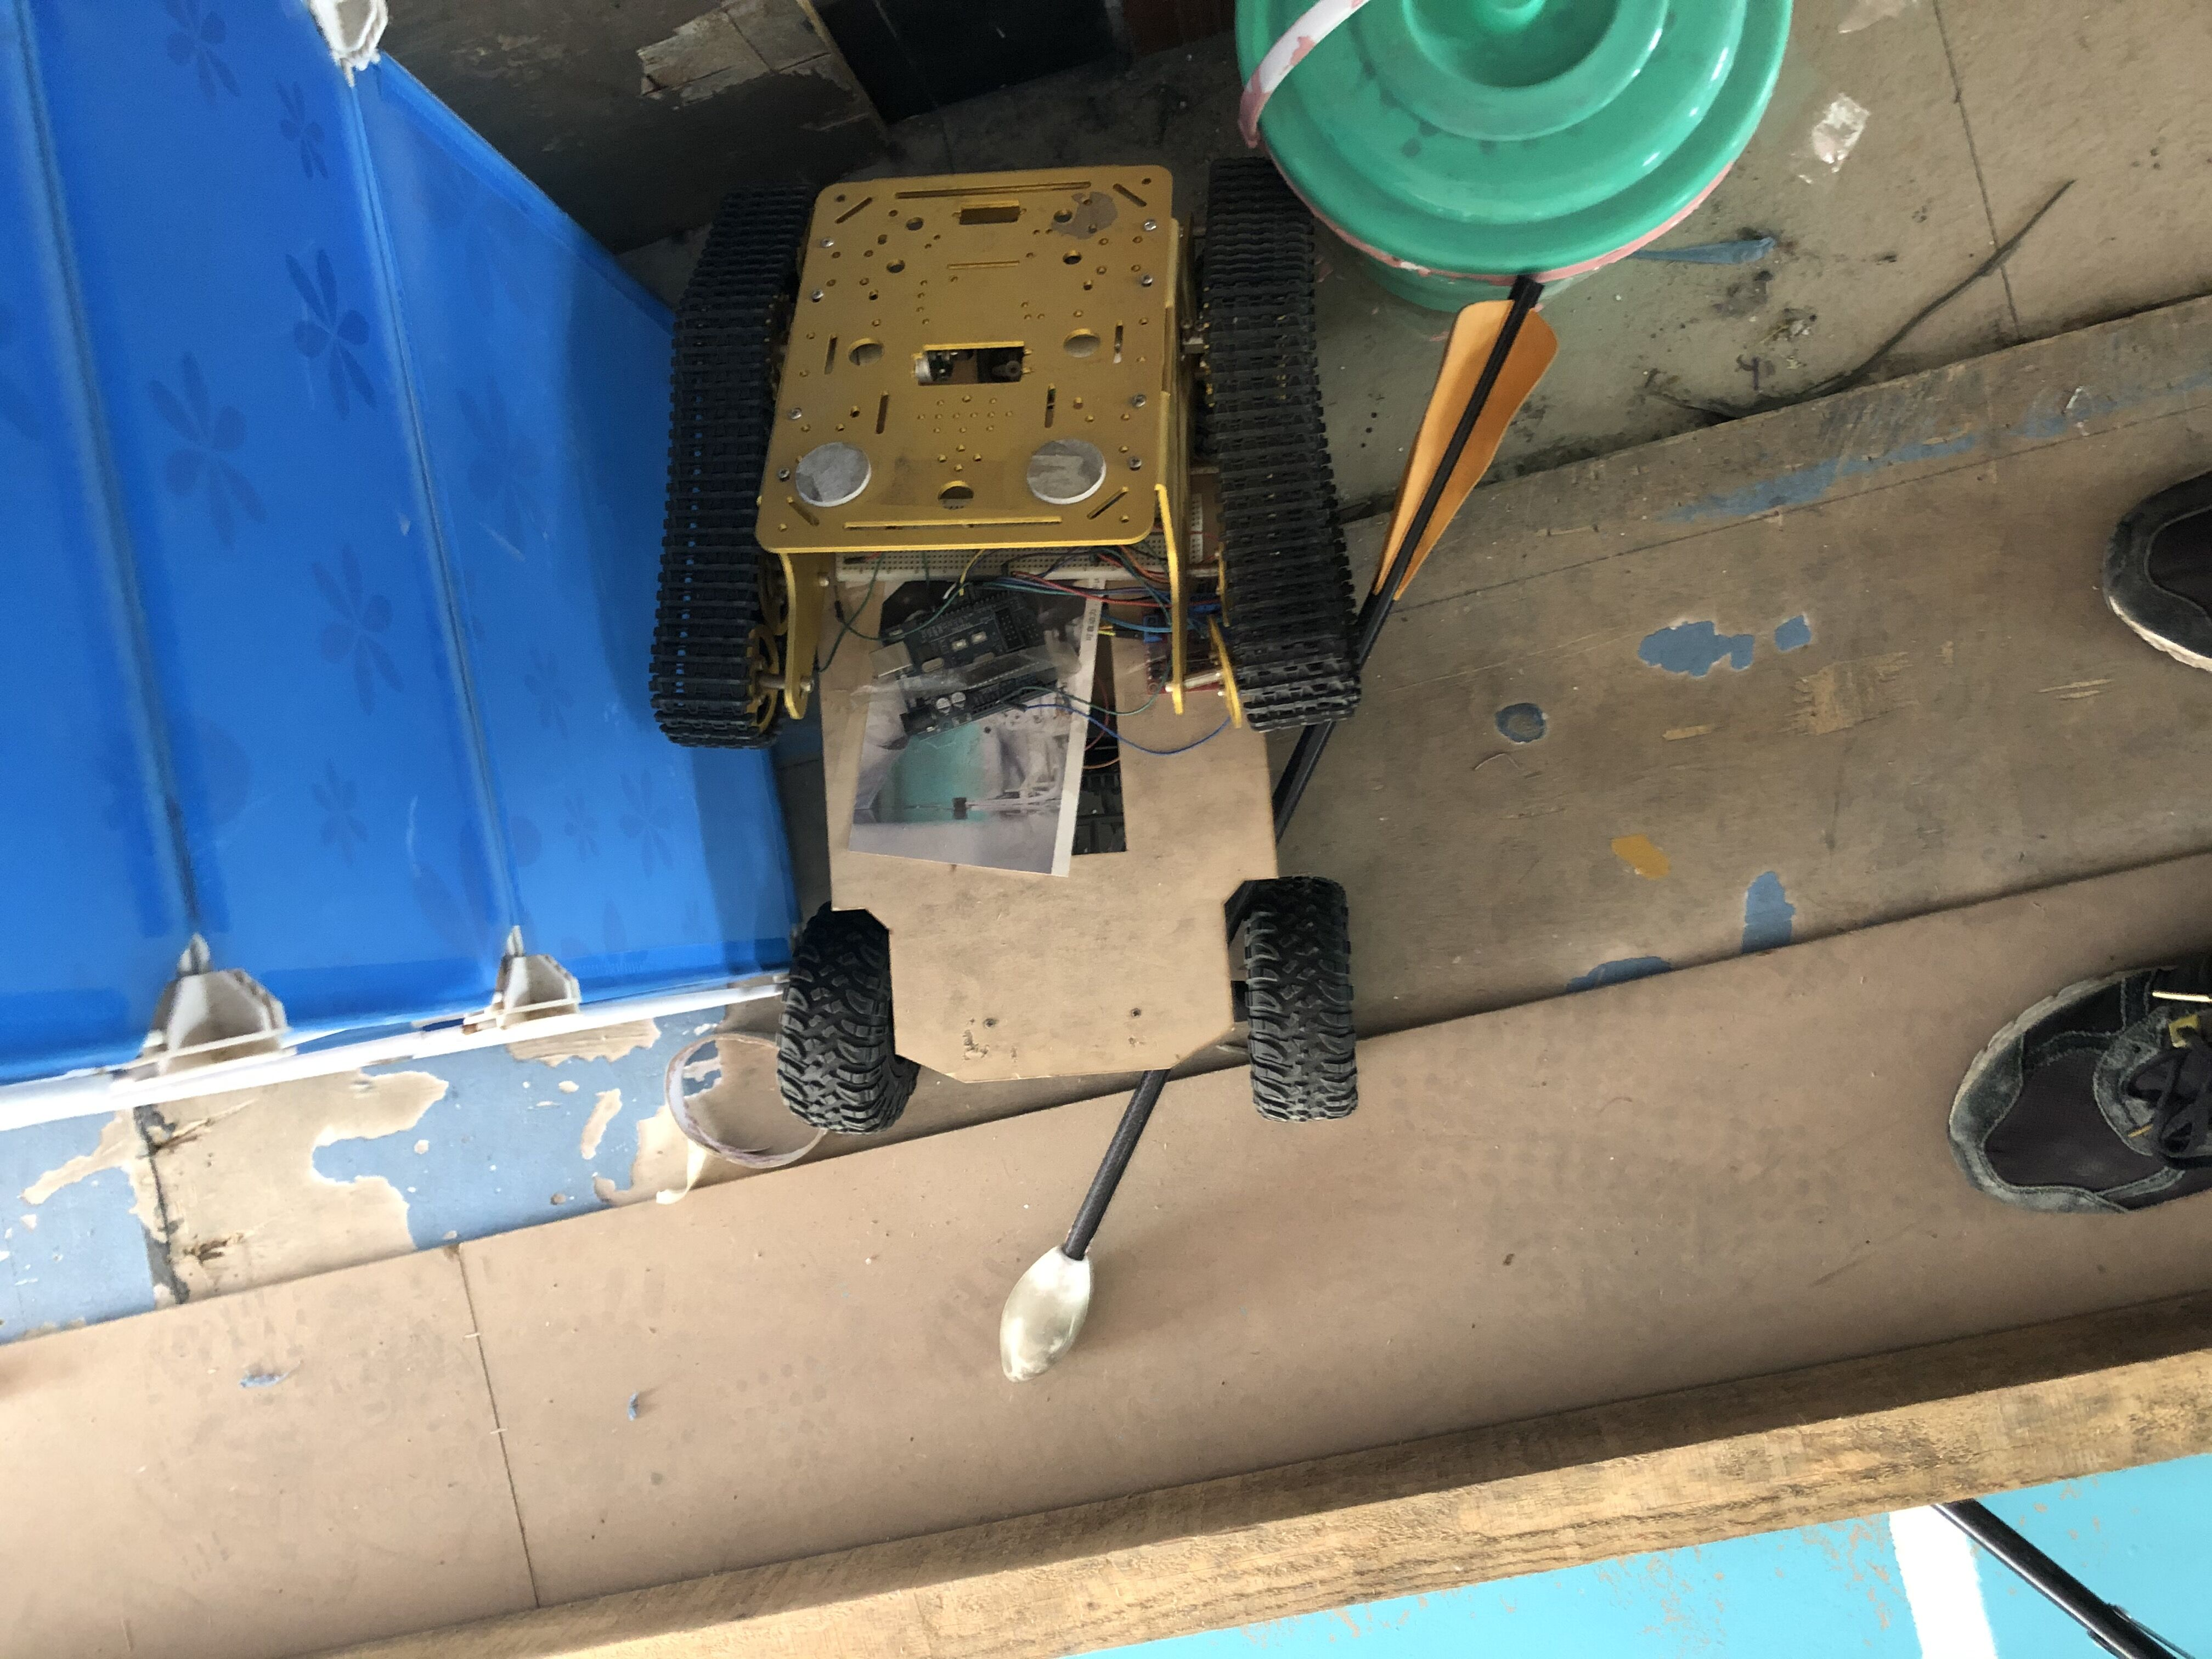arrow: (998, 282, 1561, 1387)
arrowFront: (995, 1237, 1099, 1384)
